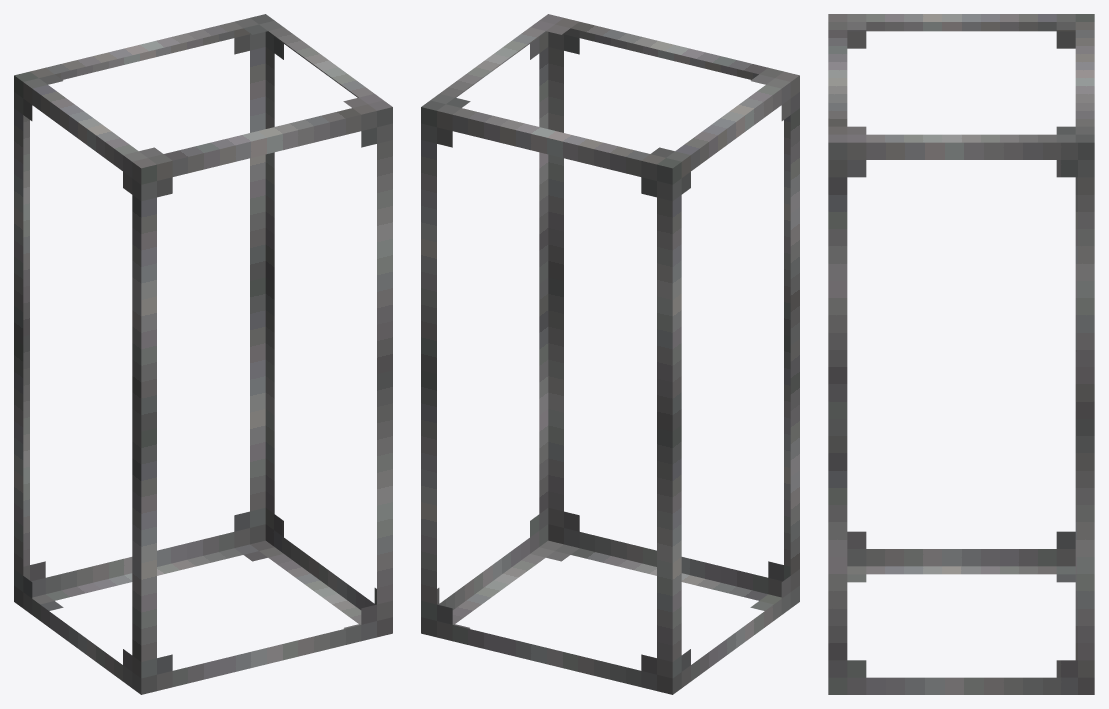
The model's file is reinforced_locker_large_frame.obj.
3 renders of one model, left to right at view 1: azimuth 30°, elevation 25°; view 2: azimuth 150°, elevation 25°; view 3: azimuth 270°, elevation 25°, orthographic. The views are drawn at different scales.
Visible parts, largest first — view 1: reinforced_locker_frame_large; view 2: reinforced_locker_frame_large; view 3: reinforced_locker_frame_large.
Boxes of the visible parts, <box> form: reinforced_locker_frame_large: <box>14,14,392,694</box>; reinforced_locker_frame_large: <box>421,14,799,694</box>; reinforced_locker_frame_large: <box>828,14,1094,694</box>.
Bounding box in the file's own units: 1 × 2 × 0.875.
